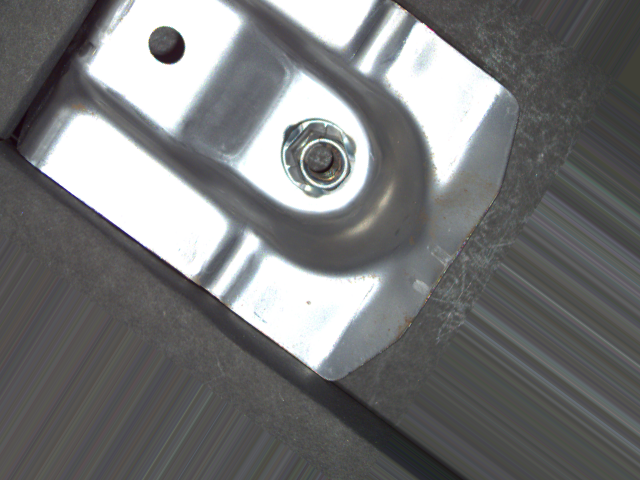good: (278, 116, 361, 201)
